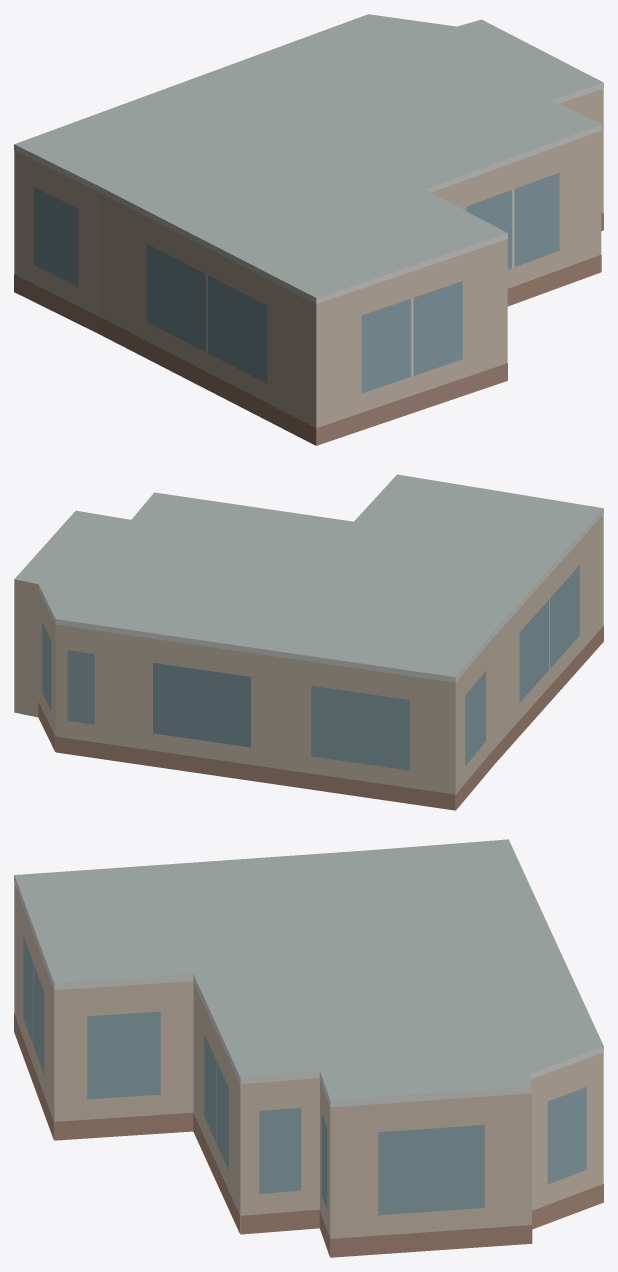
The model's file is survey-upis-32735695.glb.
3 renders of one model, top to bottom at view 1: azimuth 30°, elevation 25°; view 2: azimuth 150°, elevation 25°; view 3: azimuth 270°, elevation 25°, orthographic. The views are drawn at different scales.
Visible parts, largest first — view 1: survey-upis-32735695.tmp; view 2: survey-upis-32735695.tmp; view 3: survey-upis-32735695.tmp.
Part boxes in pixels (x1,y1,x2,y2): survey-upis-32735695.tmp: (14,14,603,445); survey-upis-32735695.tmp: (14,474,603,810); survey-upis-32735695.tmp: (14,839,603,1257).
Bounding box in the file's own units: 10.93 × 3.05 × 10.41.
